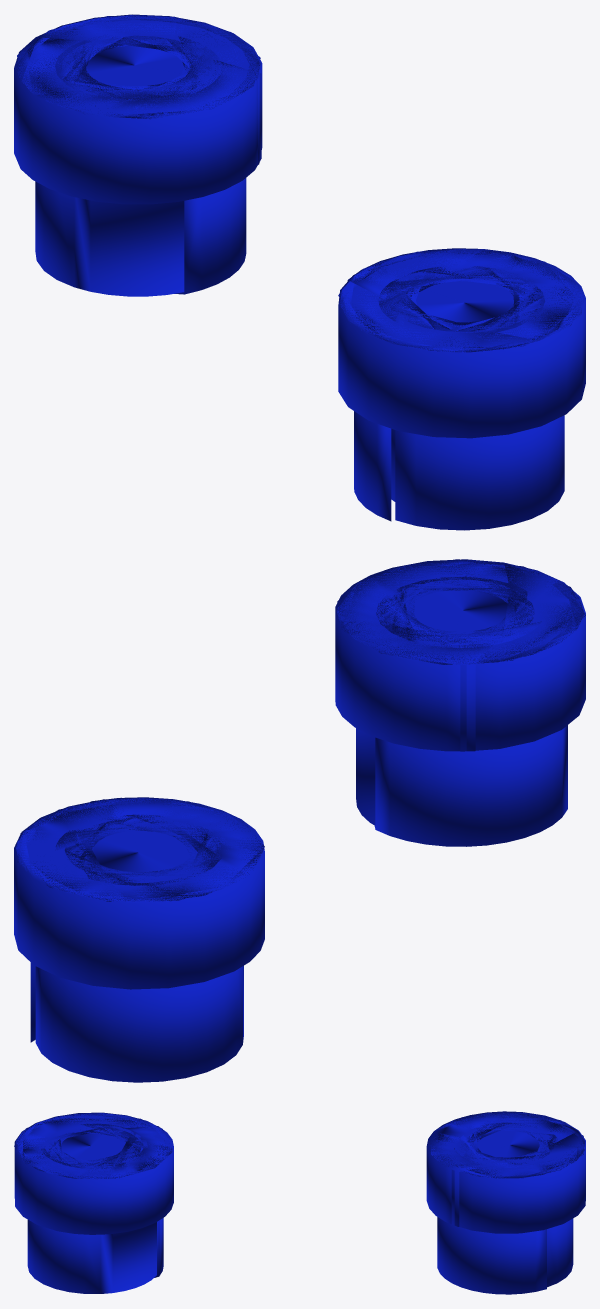
The model's file is tuyeau_element_000026.obj.
3 renders of one model, top to bottom at view 1: azimuth 30°, elevation 25°; view 2: azimuth 150°, elevation 25°; view 3: azimuth 270°, elevation 25°, orthographic. The views are drawn at different scales.
Parts seen in each view (by area): view 1: tuyeau1_Cube.014, tuyeau2_Cube.017; view 2: tuyeau2_Cube.017, tuyeau1_Cube.014; view 3: tuyeau1_Cube.014, tuyeau2_Cube.017.
Part boxes in pixels (x1,y1,x2,y2): tuyeau1_Cube.014: (14, 14, 262, 296); tuyeau2_Cube.017: (338, 248, 585, 530); tuyeau2_Cube.017: (335, 559, 585, 846); tuyeau1_Cube.014: (14, 797, 264, 1082); tuyeau1_Cube.014: (426, 1111, 585, 1294); tuyeau2_Cube.017: (14, 1112, 173, 1293).
Bounding box in the file's own units: 3580 × 2917 × 12609.
